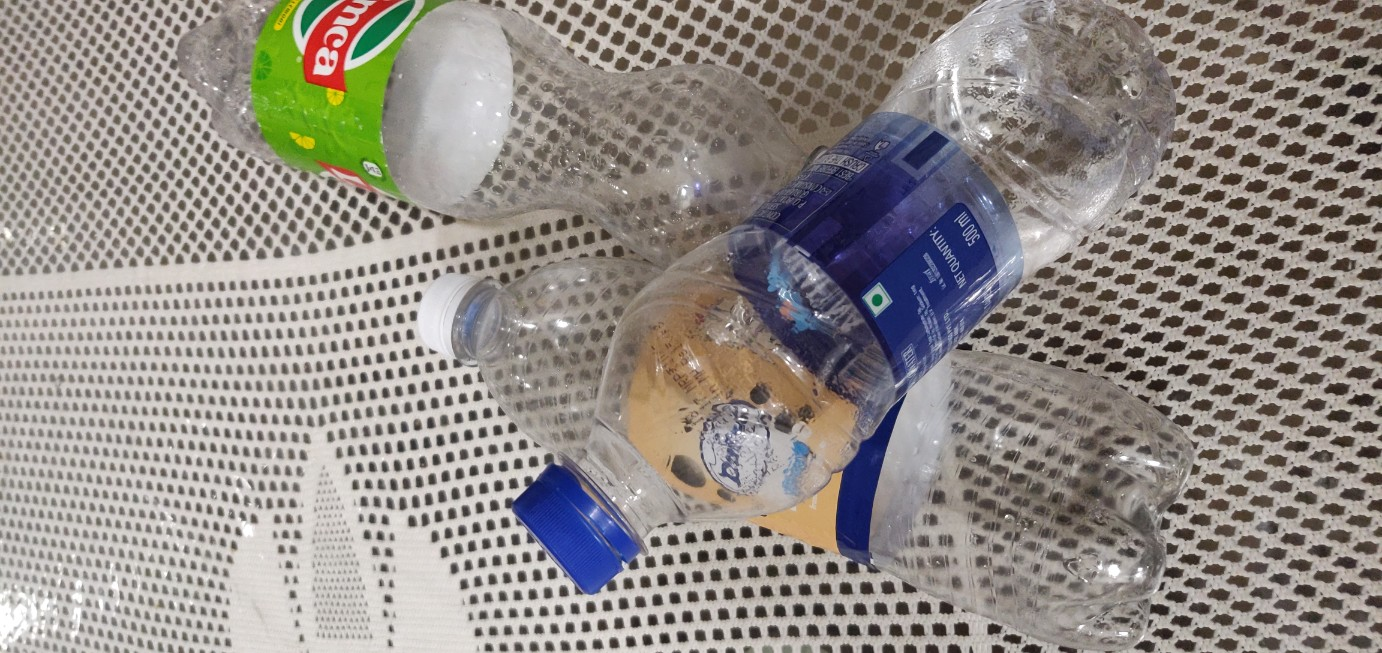Electronics: (497, 1, 1208, 609), (383, 202, 1236, 653)
